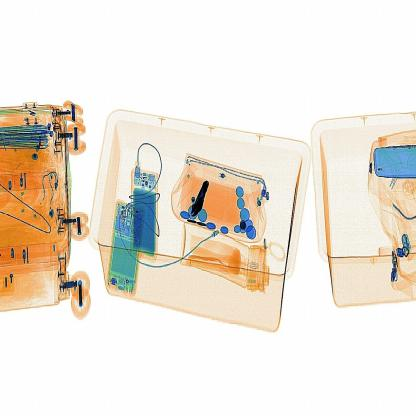knife: (184, 171, 220, 221)
